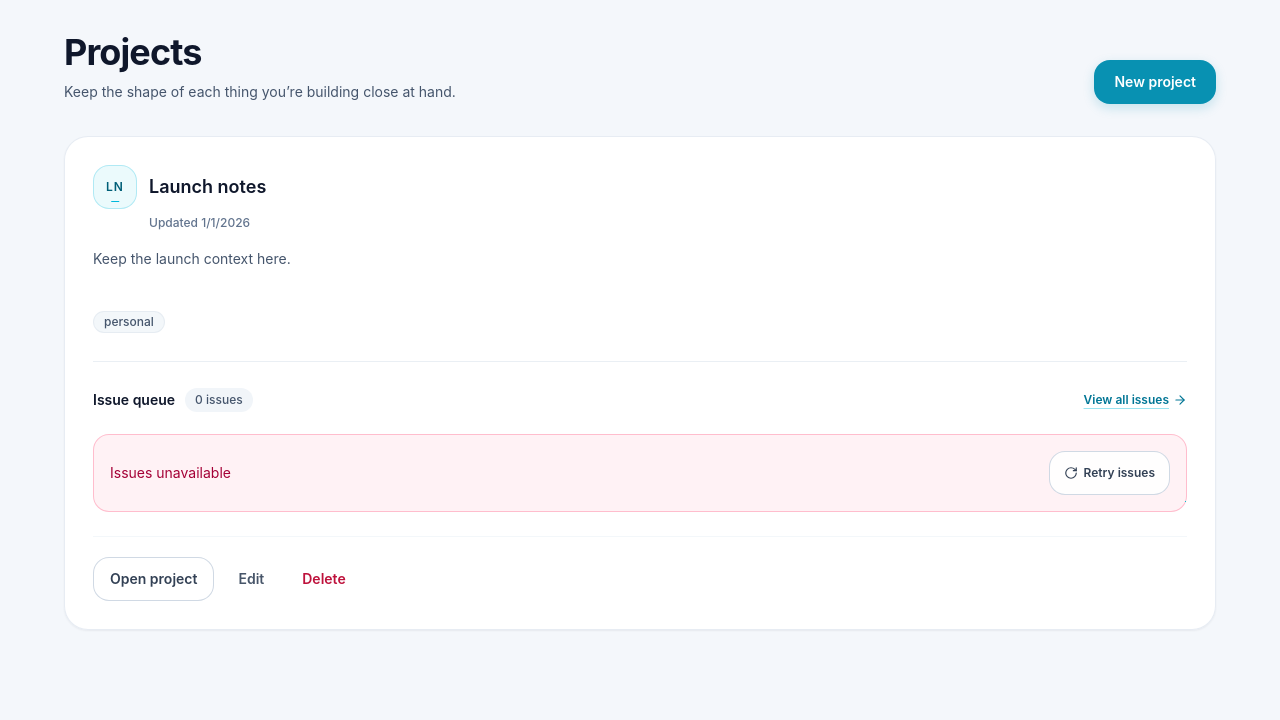
Test: ProjectsPage › retries an issue preview after a read error
This screenshot has width=1280, height=720.
Expected: the message shows "Issues unavailable", [110,464,231,481]
Click the button "Retry issues".
click(1109, 473)  # box [1049,451,1170,495]
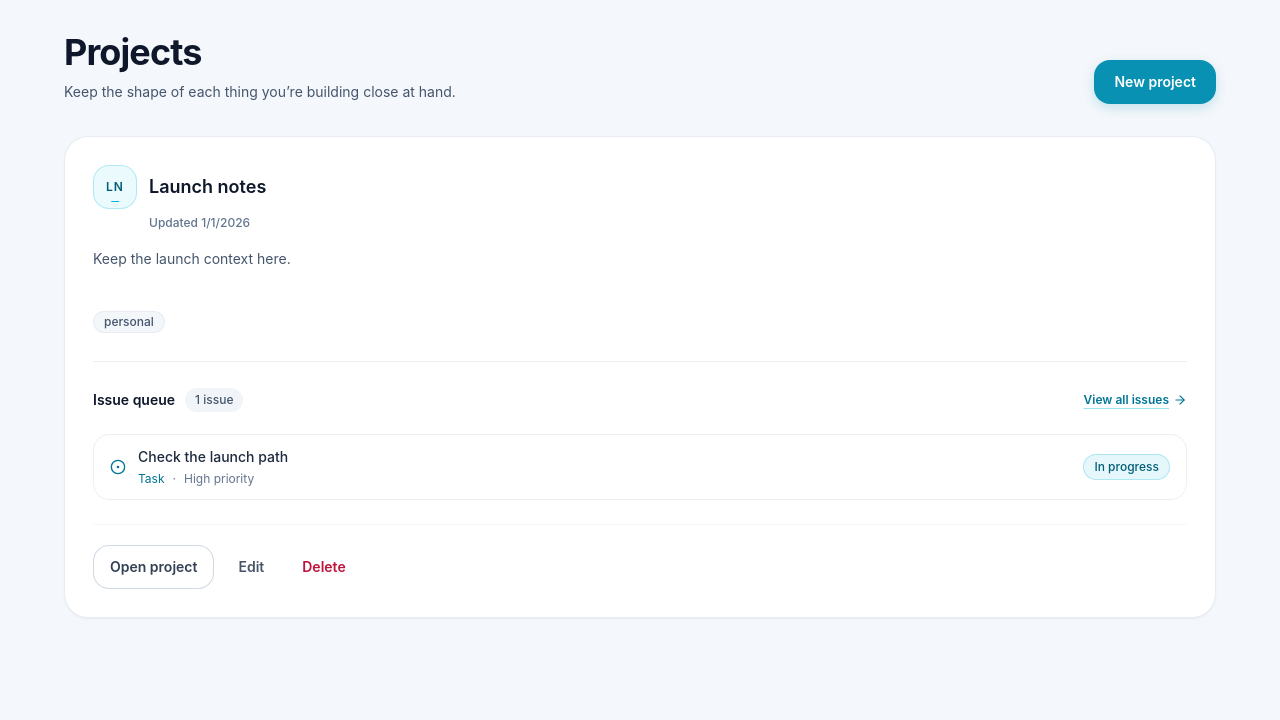
Expected: the text "Check the launch path" is shown, [138,448,288,465]
